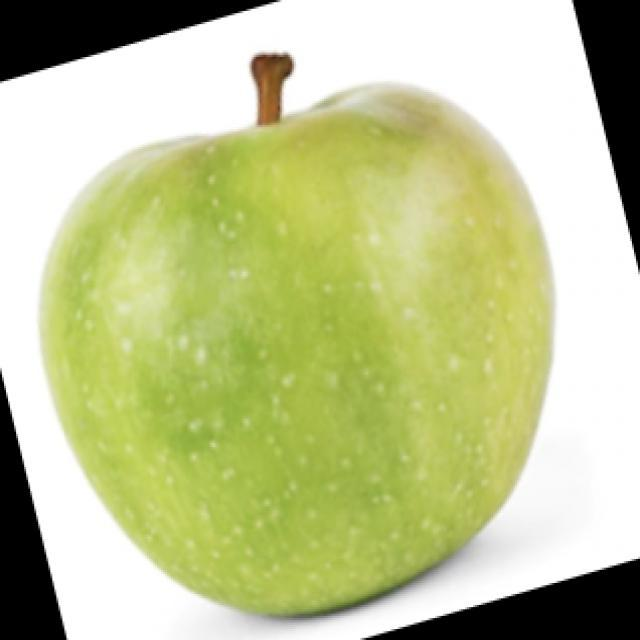Fresh Apple: (47, 85, 538, 613)
